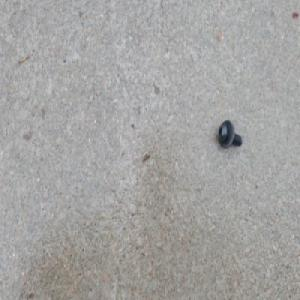BoltWasher: (216, 120, 242, 151)
